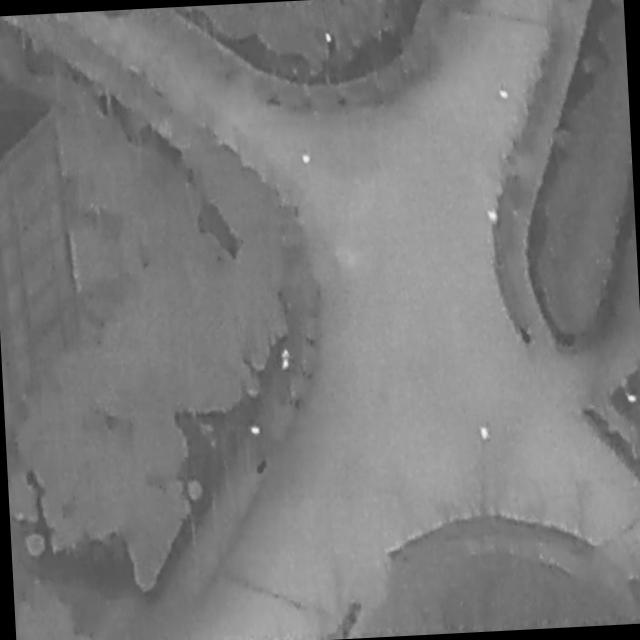person: (282, 349, 293, 373)
